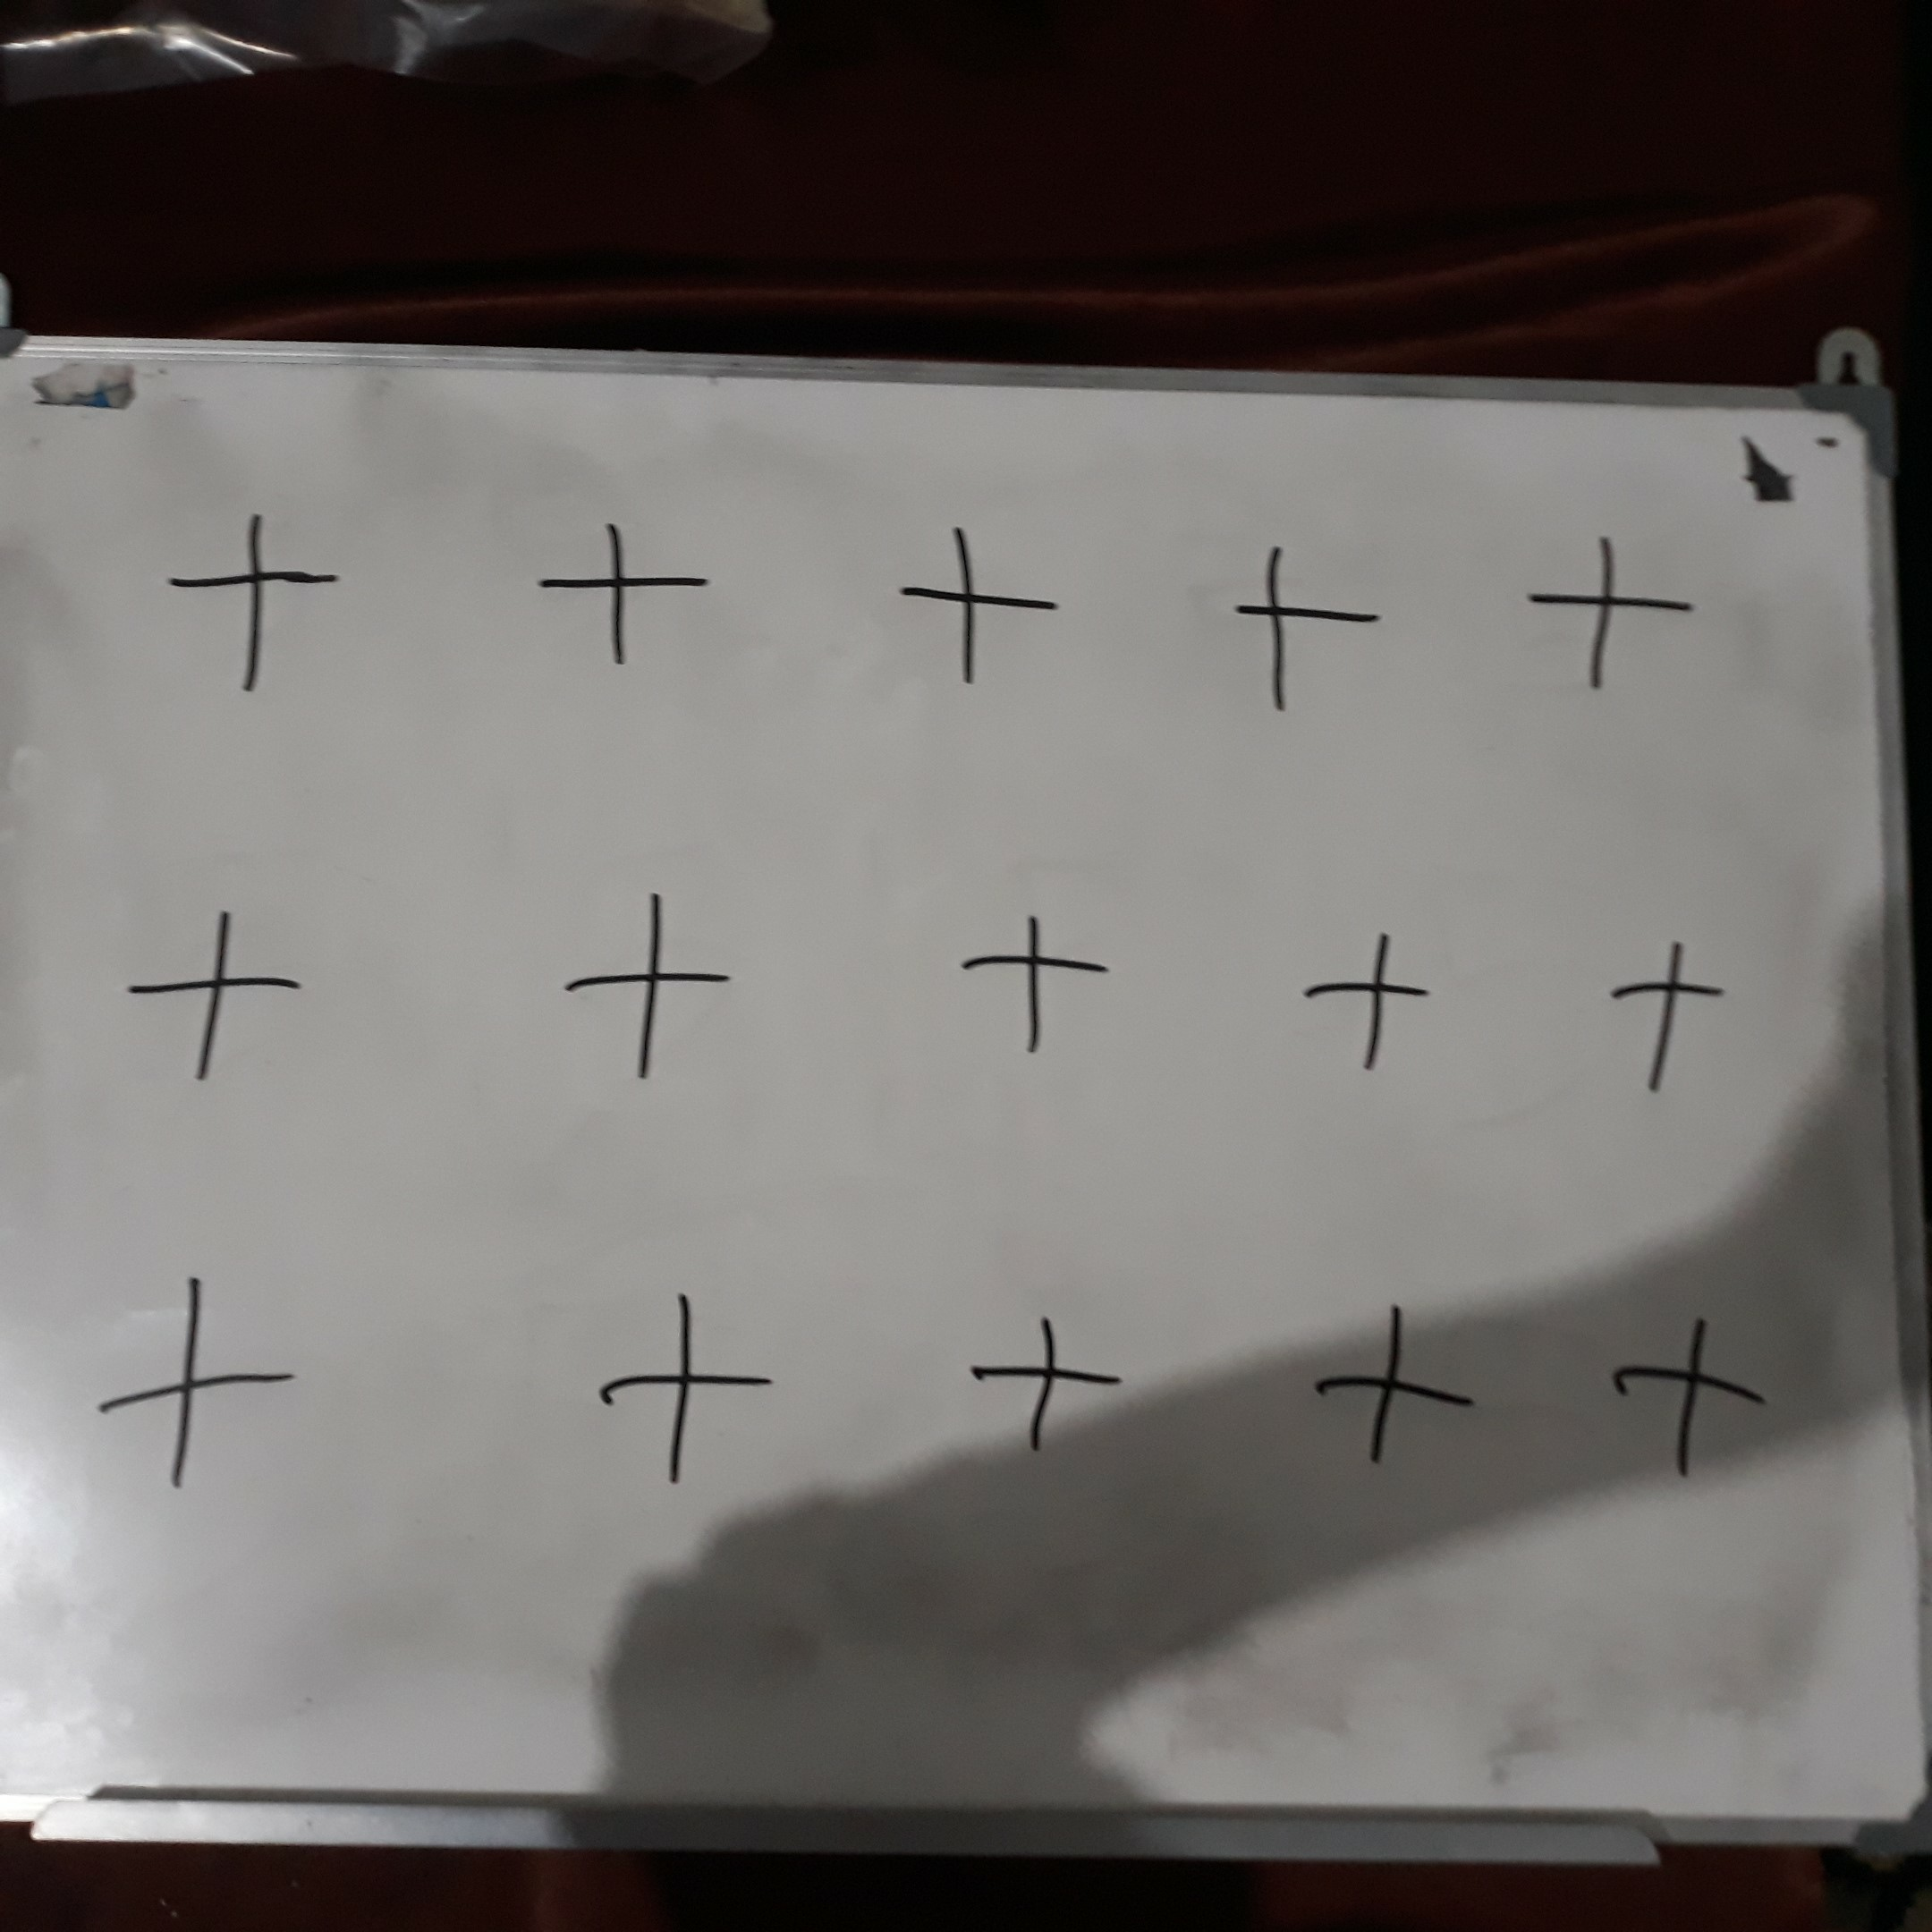sum: (69, 1237, 315, 1510), (541, 885, 753, 1102), (580, 1274, 783, 1494), (104, 894, 321, 1089), (157, 496, 354, 703), (1511, 512, 1713, 703), (1594, 1300, 1782, 1494), (945, 1292, 1140, 1471), (1296, 1296, 1491, 1475), (526, 508, 722, 677), (886, 519, 1073, 696), (1574, 922, 1750, 1104), (1220, 529, 1391, 716), (944, 892, 1120, 1061), (1284, 911, 1460, 1080)
